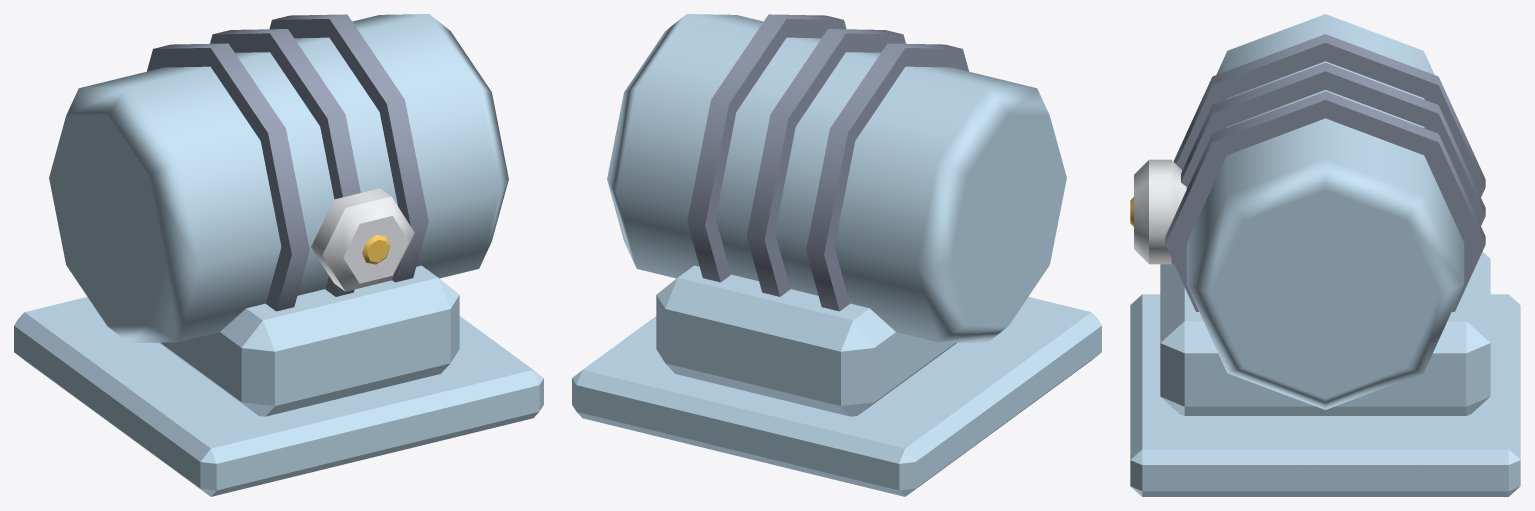
The model's file is R4X_DrivePower_LOD1.glb.
The picture shows the model from 3 angles, left to right: view 1: azimuth 30°, elevation 25°; view 2: azimuth 150°, elevation 25°; view 3: azimuth 270°, elevation 25°; orthographic projection.
Visible parts, largest first — view 1: R4X_DrivePower_LOD1; view 2: R4X_DrivePower_LOD1; view 3: R4X_DrivePower_LOD1.
Part boxes in pixels (x1=…): R4X_DrivePower_LOD1: x1=14, y1=14, x2=543, y2=496; R4X_DrivePower_LOD1: x1=572, y1=14, x2=1101, y2=496; R4X_DrivePower_LOD1: x1=1130, y1=14, x2=1520, y2=496.
Bounding box in the file's own units: 0.52 × 0.5183 × 0.52.
